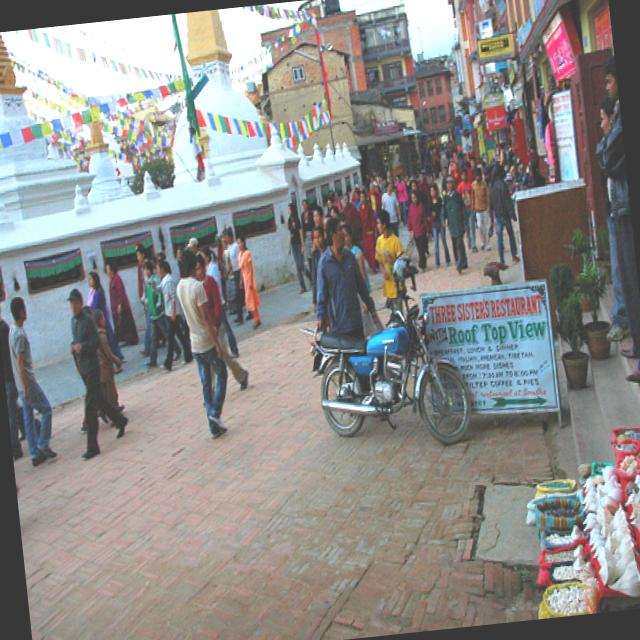Vehicle: (299, 296, 474, 456)
